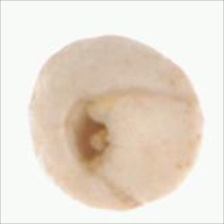L3: (65, 105, 113, 163)
L4: (29, 34, 203, 212)
